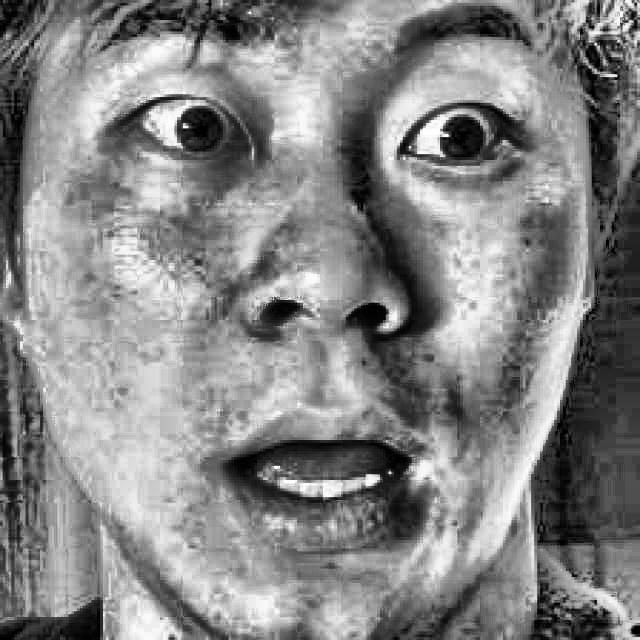fear: (101, 4, 543, 570)
